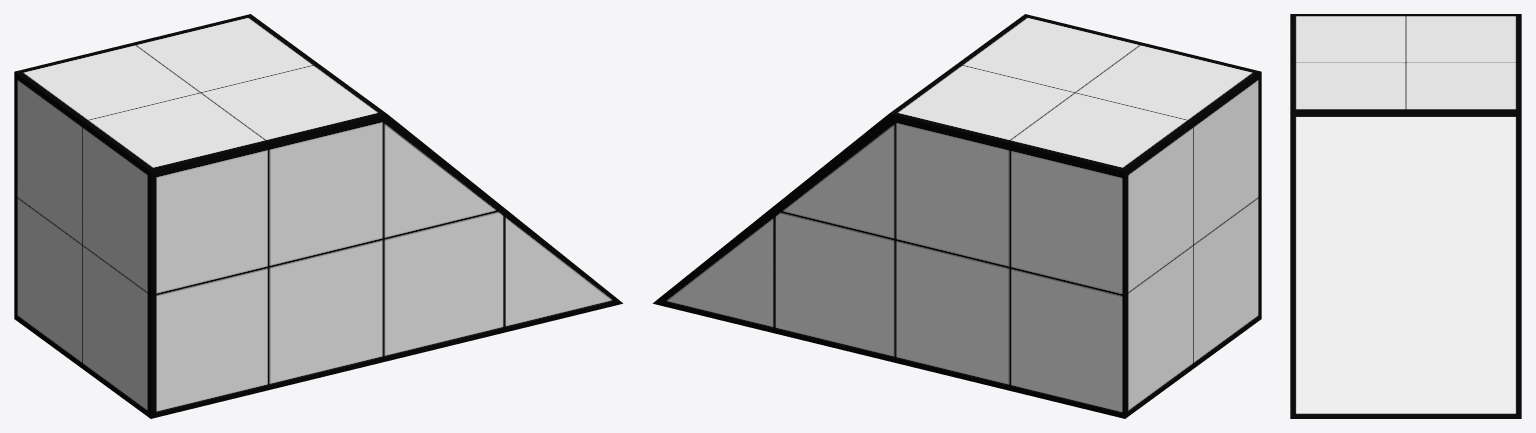
The model's file is fig11.glb.
3 renders of one model, left to right at view 1: azimuth 30°, elevation 25°; view 2: azimuth 150°, elevation 25°; view 3: azimuth 270°, elevation 25°, orthographic. The views are drawn at different scales.
Parts seen in each view (by area): view 1: root; view 2: root; view 3: root.
Boxes of the visible parts, box(x1,y1,x2,y2) form: root: box(14, 14, 622, 418); root: box(653, 14, 1261, 418); root: box(1290, 14, 1521, 418).
Size of the model in its own units: 0.04 by 0.02 by 0.02.
5 materials, 5 textured.
